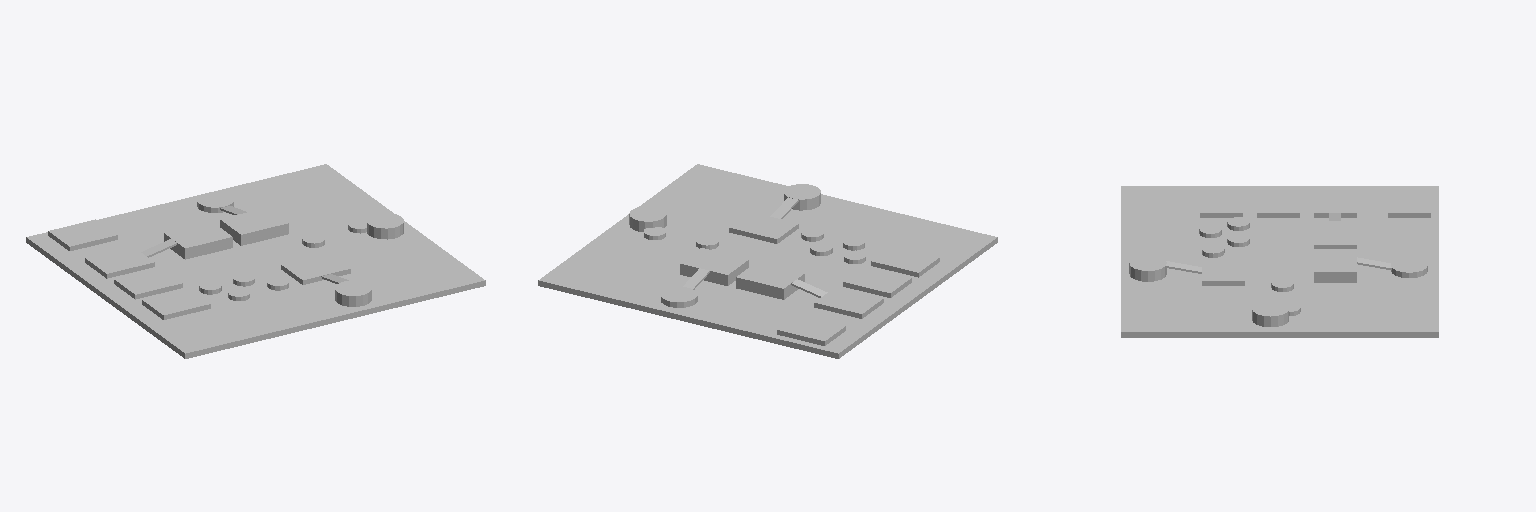
File: SpinMechanicExport.obj
3 views of the same model, side by side, from view 1: azimuth 30°, elevation 25°; view 2: azimuth 150°, elevation 25°; view 3: azimuth 270°, elevation 25° (orthographic).
Parts seen in each view (by area): view 1: Cube, Cube (1), Cube (4), Cube (3), Cube (6), Cube (5), Cube (7), Cylinder (6), Cylinder (5), Cylinder; view 2: Cube, Cube (1), Cube (7), Cube (3), Cube (5), Cube (6), Cube (4), Cylinder (6), Cylinder (5), Cylinder; view 3: Cube, Cube (5), Cube (4), Cube (6), Cube (7), Cube (1), Cube (3), Cylinder (5), Cylinder (6), Cylinder.
Part boxes in pixels (bbox=[...]): Cube: bbox=[26, 164, 485, 358]; Cube (1): bbox=[164, 221, 232, 259]; Cube (4): bbox=[48, 219, 117, 250]; Cube (3): bbox=[85, 247, 154, 278]; Cube (6): bbox=[142, 288, 210, 319]; Cube (5): bbox=[114, 267, 182, 299]; Cube (7): bbox=[281, 253, 350, 284]; Cylinder (6): bbox=[367, 213, 403, 239]; Cylinder (5): bbox=[335, 280, 371, 306]; Cylinder: bbox=[197, 192, 233, 212]; Cube: bbox=[538, 164, 997, 358]; Cube (1): bbox=[736, 261, 804, 299]; Cube (7): bbox=[729, 212, 798, 243]; Cube (3): bbox=[814, 287, 883, 318]; Cube (5): bbox=[843, 266, 911, 297]; Cube (6): bbox=[871, 245, 939, 277]; Cube (4): bbox=[777, 314, 845, 345]; Cylinder (6): bbox=[629, 206, 666, 231]; Cylinder (5): bbox=[784, 184, 820, 210]; Cylinder: bbox=[661, 287, 697, 307]; Cube: bbox=[1121, 186, 1438, 337]; Cube (5): bbox=[1257, 189, 1299, 217]; Cube (4): bbox=[1388, 189, 1430, 217]; Cube (6): bbox=[1200, 189, 1242, 217]; Cube (7): bbox=[1202, 258, 1244, 285]; Cube (1): bbox=[1314, 221, 1356, 248]; Cube (3): bbox=[1314, 189, 1356, 217]; Cylinder (5): bbox=[1129, 255, 1166, 281]; Cylinder (6): bbox=[1252, 301, 1288, 326]; Cylinder: bbox=[1391, 257, 1427, 277].
Size of the model in its own units: 56.45 by 3.02 by 51.8.